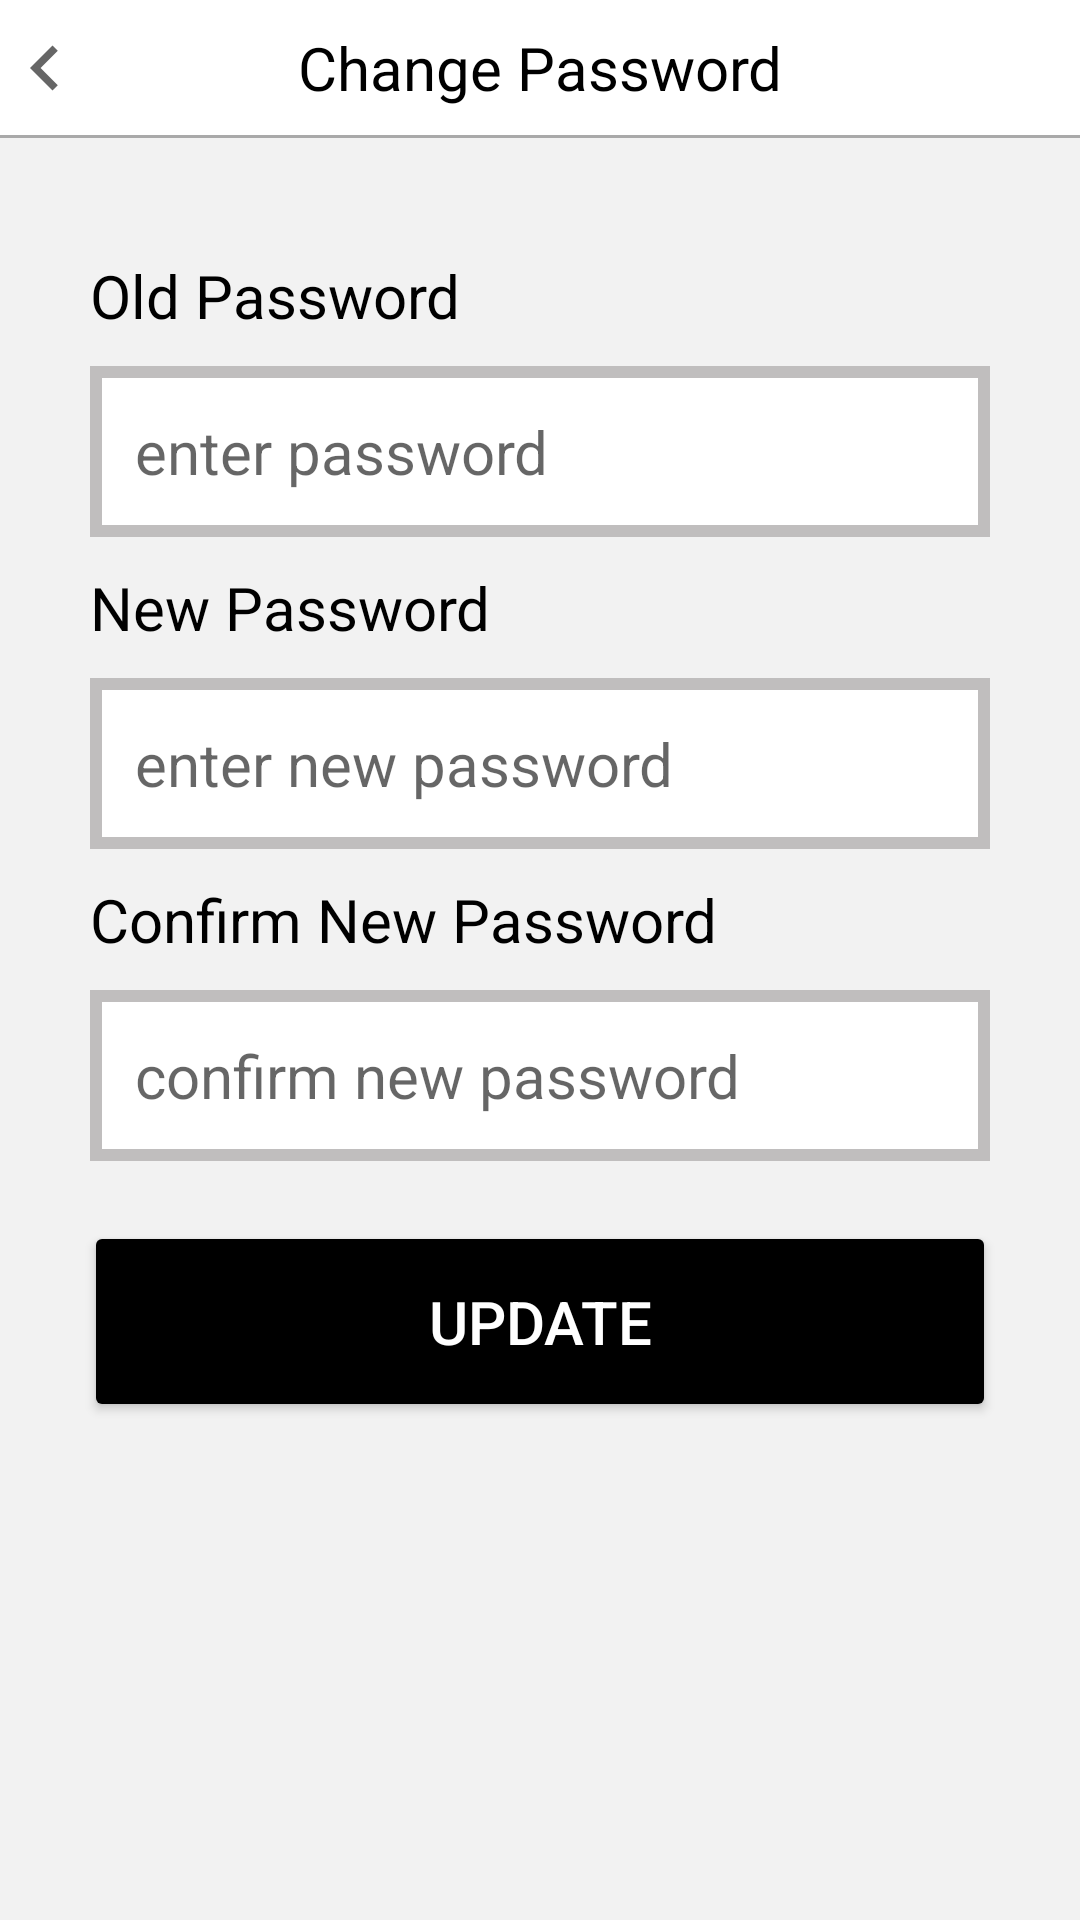

Named icons in this screenshot (1080px×1920px) and their bounding boxes, (x1, y1, x2, y2):
chevron left: (30, 45, 58, 91)
